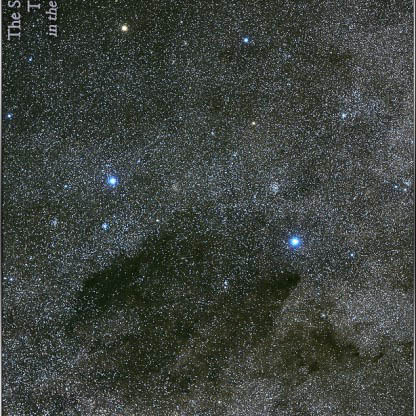Southern Cross: (95, 162, 125, 198), (279, 226, 310, 254), (112, 18, 136, 49), (233, 30, 263, 52)
